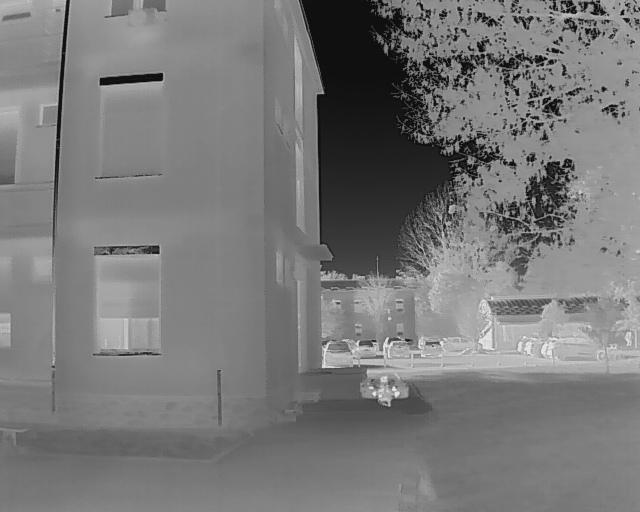drone: (353, 374, 411, 411)
